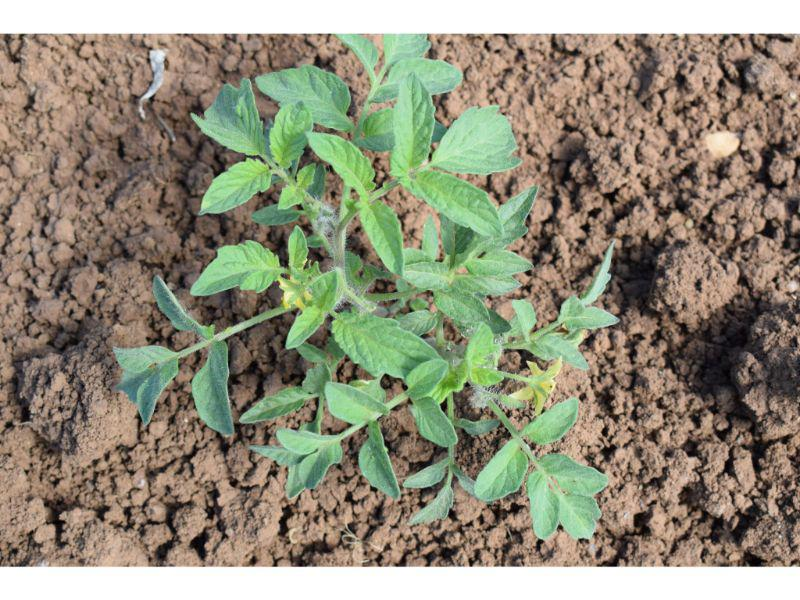tomato: (113, 34, 612, 545)
